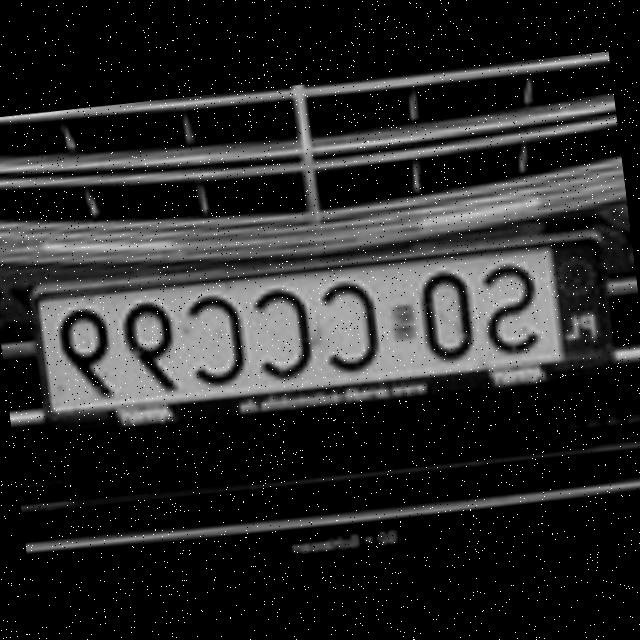license-plates: (36, 239, 610, 416)
